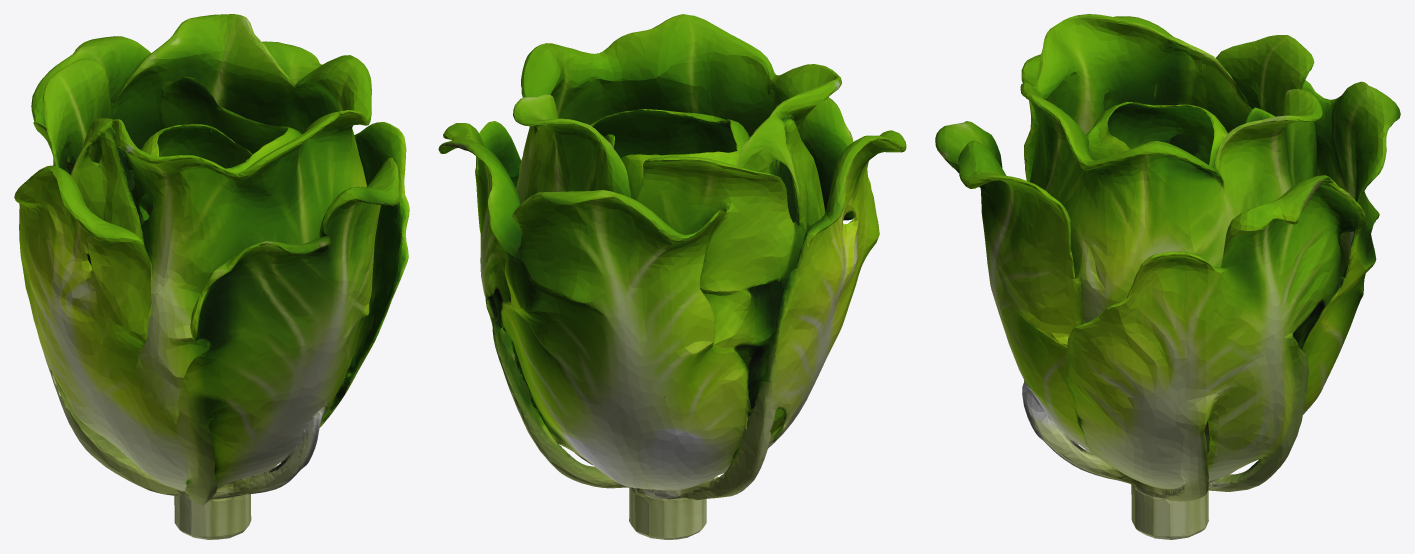
The model's file is lettuce.glb.
3 renders of one model, left to right at view 1: azimuth 30°, elevation 25°; view 2: azimuth 150°, elevation 25°; view 3: azimuth 270°, elevation 25°, orthographic.
Visible parts, largest first — view 1: world; view 2: world; view 3: world.
Boxes of the visible parts, x1,y1,x2,y2 form: world: [14, 14, 409, 539]; world: [438, 14, 906, 539]; world: [935, 14, 1400, 539].
Bounding box in the file's own units: 0.704 × 0.8102 × 0.7501.
1 material, 1 textured.
